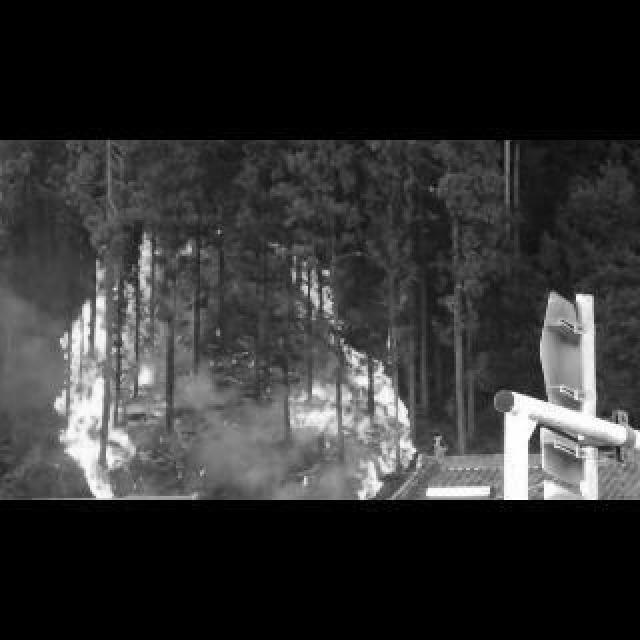Fire: (44, 232, 170, 498), (290, 256, 416, 498), (184, 244, 194, 254)
Smoke: (168, 362, 298, 492)
